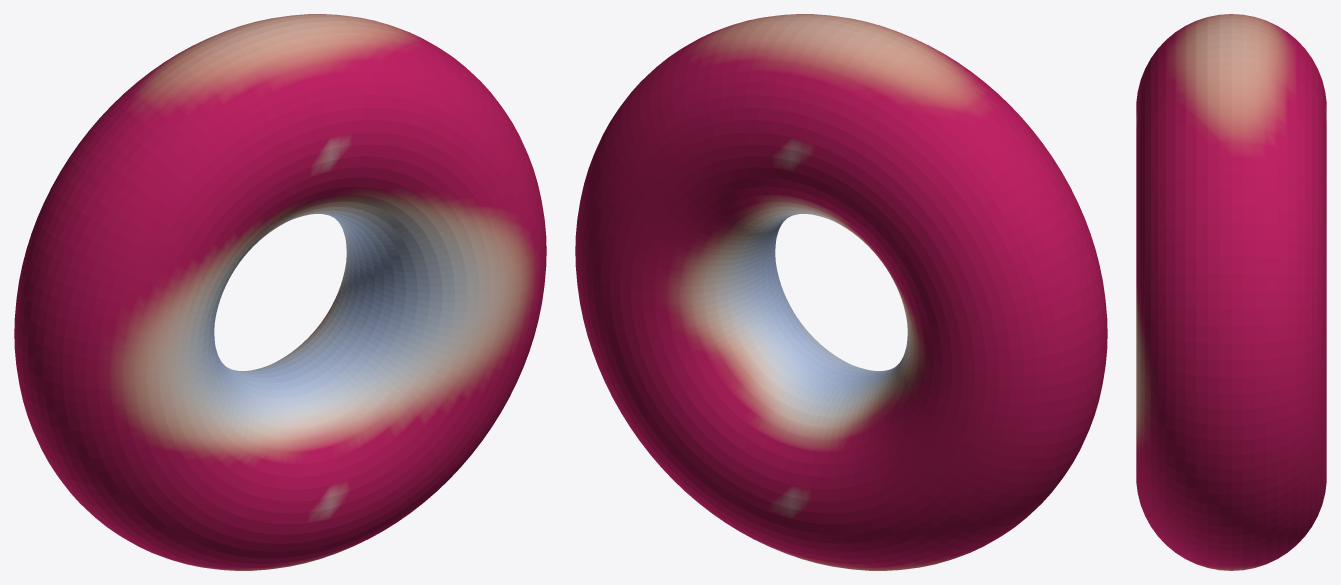
The picture shows the model from 3 angles, left to right: view 1: azimuth 30°, elevation 25°; view 2: azimuth 150°, elevation 25°; view 3: azimuth 270°, elevation 25°; orthographic projection. The views are drawn at different scales.
Parts seen in each view (by area): view 1: world; view 2: world; view 3: world.
Part boxes in pixels (x1,y1,x2,y2): world: (14, 14, 546, 570); world: (575, 14, 1107, 570); world: (1136, 14, 1326, 570).
Size of the model in its own units: 28.4 by 28.4 by 9.71.
